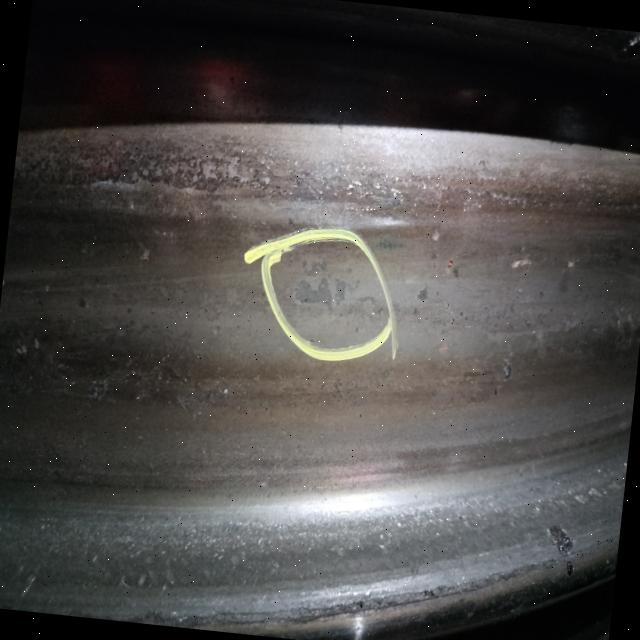Blue hole: (277, 250, 388, 342)
Contact_Fatigue_Cracks: (176, 114, 564, 228)
